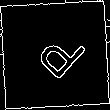P_SW: (24, 24, 86, 86)
